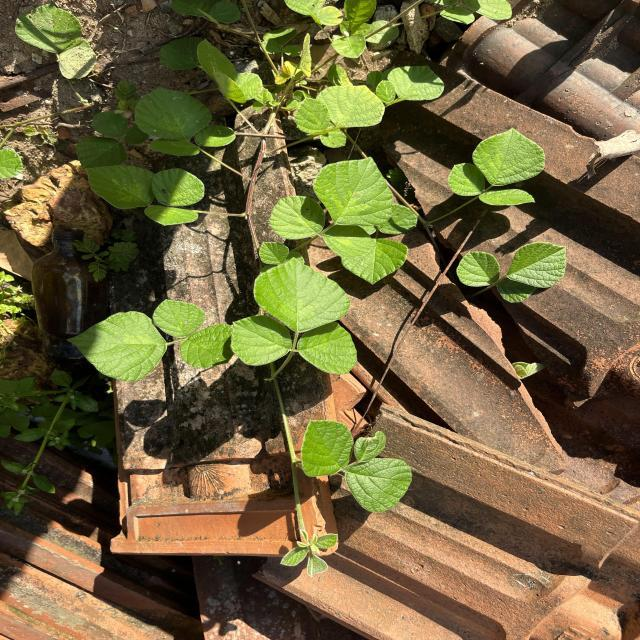Pseudarthria viscida: (230, 256, 358, 376), (66, 298, 234, 383), (268, 156, 394, 260), (446, 128, 546, 206), (85, 164, 206, 227), (134, 85, 238, 157), (456, 241, 568, 304)
